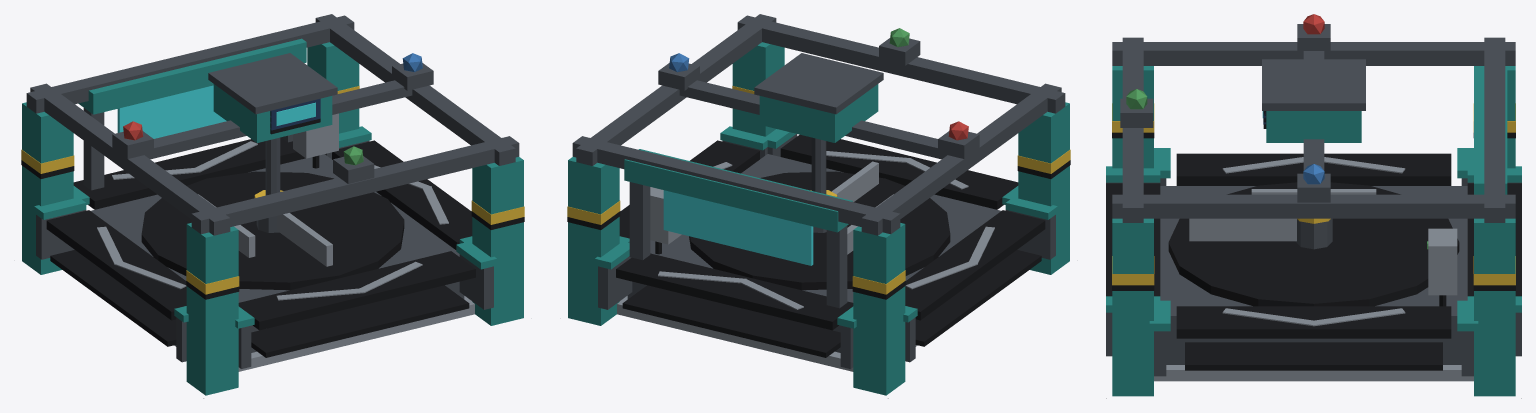
File: trieur.glb
3 renders of one model, left to right at view 1: azimuth 30°, elevation 25°; view 2: azimuth 150°, elevation 25°; view 3: azimuth 270°, elevation 25°, orthographic. The views are drawn at different scales.
Visible parts, largest first — view 1: pieces_acier_sombre.022, pieces_noir.030, pieces_trieur.002, plateau_fond.006, scanner_cyan.002, pieces_acier.054, bande_acier.048, aiguillage_acier.004, pieces_jaune.024, pieces_cyan.002, pieces_panneau.002; view 2: pieces_acier_sombre.022, pieces_trieur.002, pieces_noir.030, plateau_fond.006, scanner_cyan.002, pieces_acier.054, bande_acier.048, pieces_jaune.024, aiguillage_acier.004; view 3: pieces_acier_sombre.022, pieces_noir.030, pieces_trieur.002, plateau_fond.006, pieces_acier.054, aiguillage_acier.004, bande_acier.048, pieces_jaune.024, aiguillage_acier_sombre.004, pieces_vert.002, pieces_bleu.002, pieces_rouge.002.
Part boxes in pixels (x1=…): pieces_acier_sombre.022: x1=26, y1=14, x2=519, y2=368; pieces_noir.030: x1=21, y1=111, x2=524, y2=357; pieces_trieur.002: x1=22, y1=38, x2=523, y2=395; plateau_fond.006: x1=141, y1=171, x2=404, y2=290; scanner_cyan.002: x1=117, y1=85, x2=226, y2=138; pieces_acier.054: x1=174, y1=113, x2=474, y2=371; bande_acier.048: x1=97, y1=141, x2=448, y2=300; aiguillage_acier.004: x1=198, y1=194, x2=332, y2=266; pieces_jaune.024: x1=21, y1=86, x2=524, y2=294; pieces_cyan.002: x1=276, y1=102, x2=315, y2=125; pieces_panneau.002: x1=270, y1=98, x2=320, y2=130; pieces_acier_sombre.022: x1=572, y1=14, x2=1065, y2=368; pieces_trieur.002: x1=568, y1=42, x2=1069, y2=395; pieces_noir.030: x1=567, y1=134, x2=1070, y2=357; plateau_fond.006: x1=689, y1=171, x2=950, y2=290; scanner_cyan.002: x1=663, y1=190, x2=813, y2=265; pieces_acier.054: x1=617, y1=187, x2=917, y2=371; bande_acier.048: x1=658, y1=151, x2=994, y2=309; pieces_jaune.024: x1=567, y1=86, x2=1070, y2=294; aiguillage_acier.004: x1=831, y1=161, x2=893, y2=254; pieces_acier_sombre.022: x1=1106, y1=24, x2=1521, y2=376; pieces_noir.030: x1=1106, y1=111, x2=1521, y2=370; pieces_trieur.002: x1=1106, y1=66, x2=1521, y2=396; plateau_fond.006: x1=1168, y1=182, x2=1459, y2=306; pieces_acier.054: x1=1154, y1=228, x2=1473, y2=381; aiguillage_acier.004: x1=1189, y1=189, x2=1376, y2=241; bande_acier.048: x1=1222, y1=157, x2=1405, y2=326; pieces_jaune.024: x1=1112, y1=103, x2=1515, y2=285; aiguillage_acier_sombre.004: x1=1295, y1=218, x2=1332, y2=249; pieces_vert.002: x1=1126, y1=89, x2=1428, y2=249; pieces_bleu.002: x1=1303, y1=164, x2=1324, y2=184; pieces_rouge.002: x1=1303, y1=14, x2=1324, y2=34.
Bounding box in the file's own units: 1 × 0.61 × 1.
